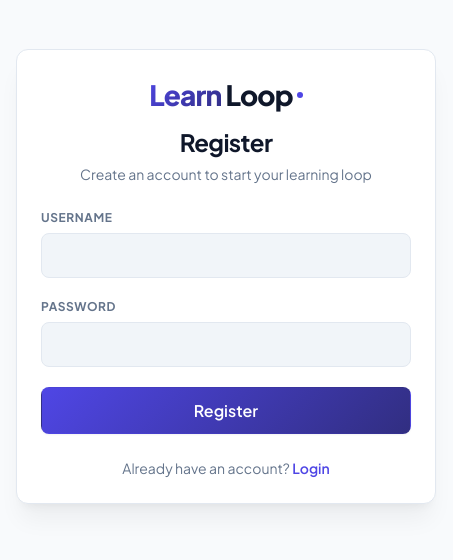
Test case: RegisterPage › displays error on registration failure
Type "existinguser" into the field labelled "Username" at coordinates (226, 255), box [41,232,411,278]
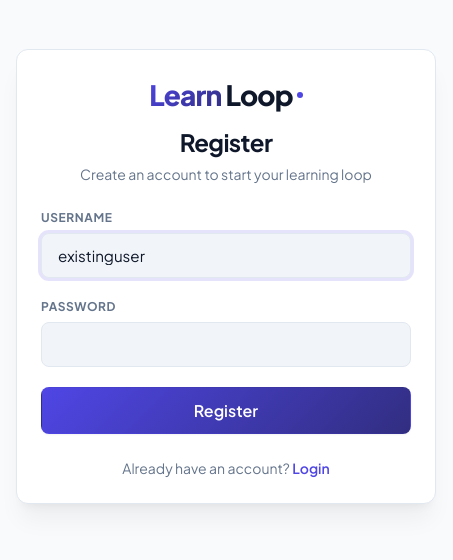
Type "password123" into the password field labelled "Password" at coordinates (226, 344), box [41,322,411,366]
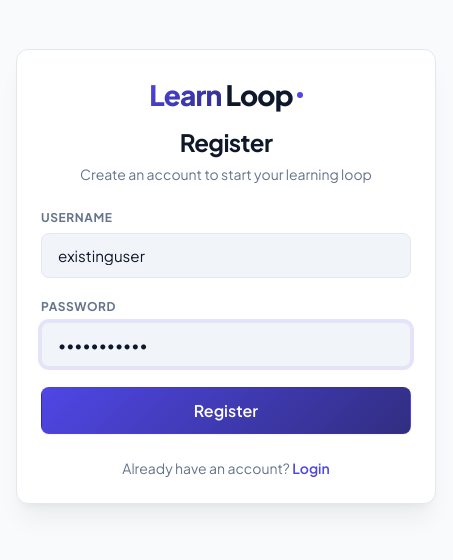
Click the button "Register" at coordinates (226, 410), box [41,386,411,434]
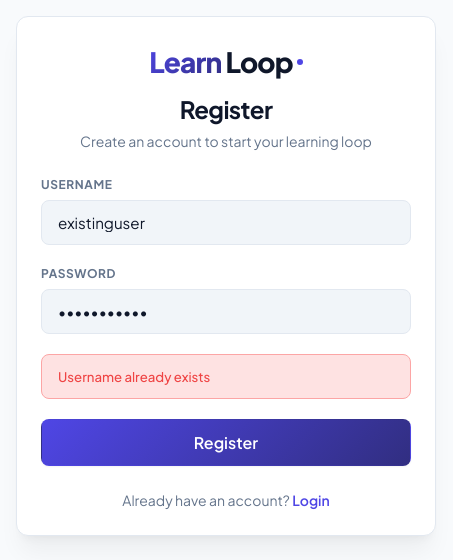
Expected: the message reads "Username already exists", [58,368,210,385]
